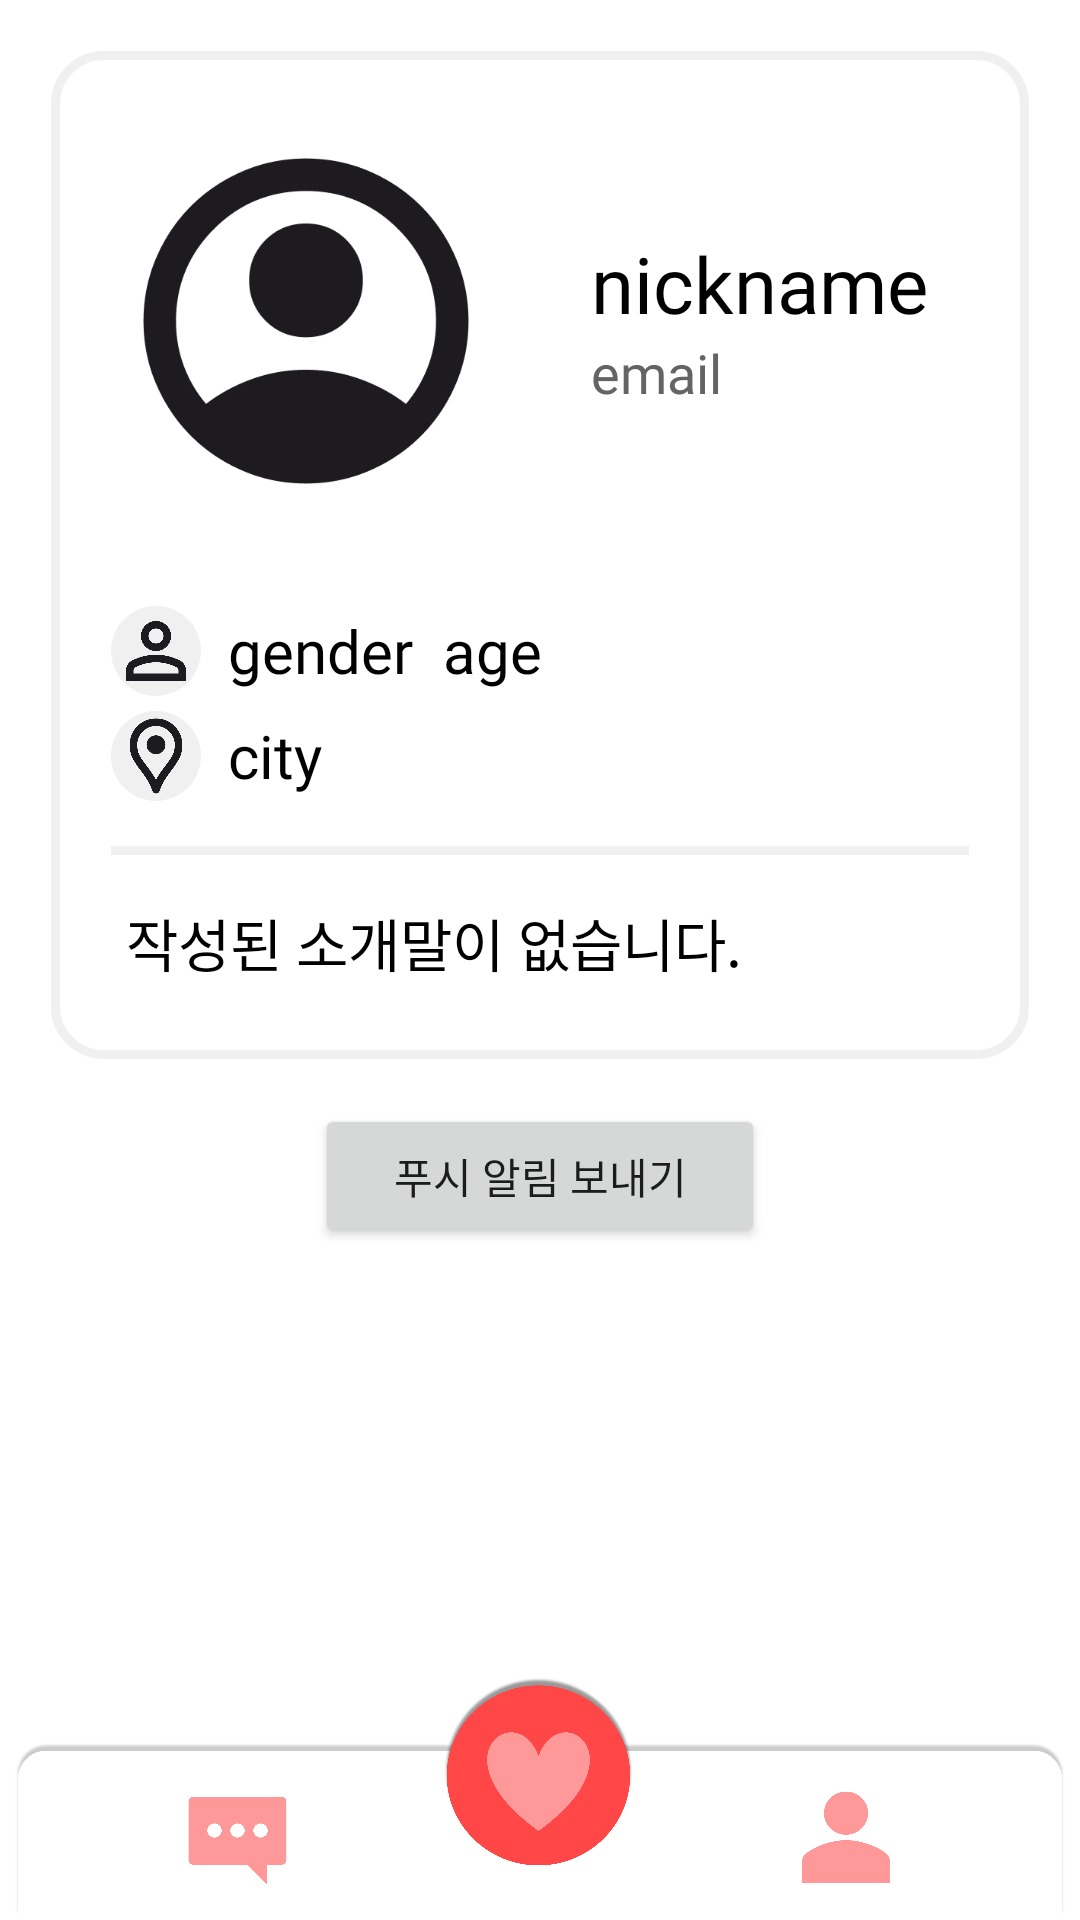

Screen size 1080*1920. Icon name, then its box in pixels as (x1, y1, x2, y2):
account circle: (143, 158, 469, 484)
location: (111, 711, 201, 801)
